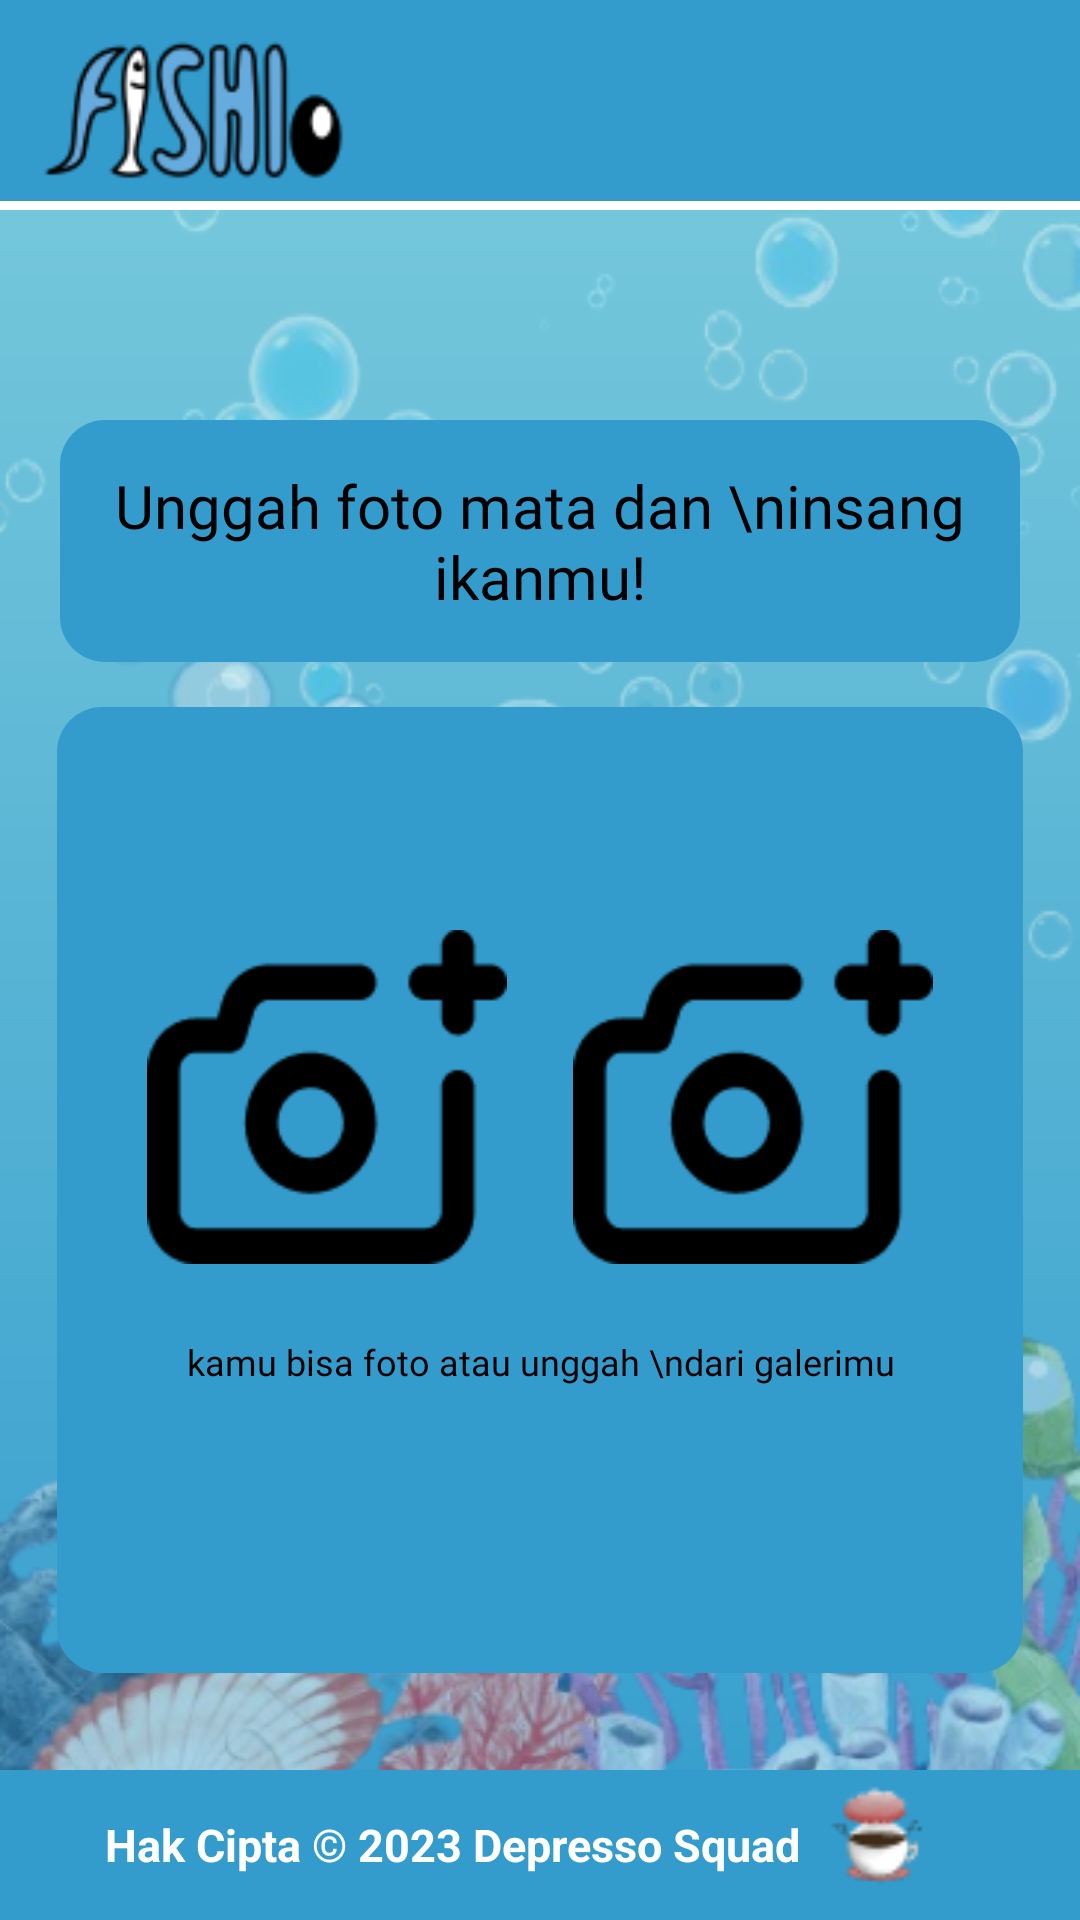

Icons on this 1080 x 1920 Android screen, each with the point to tap as (x,y):
camera: (327,1097), (753,1097)
